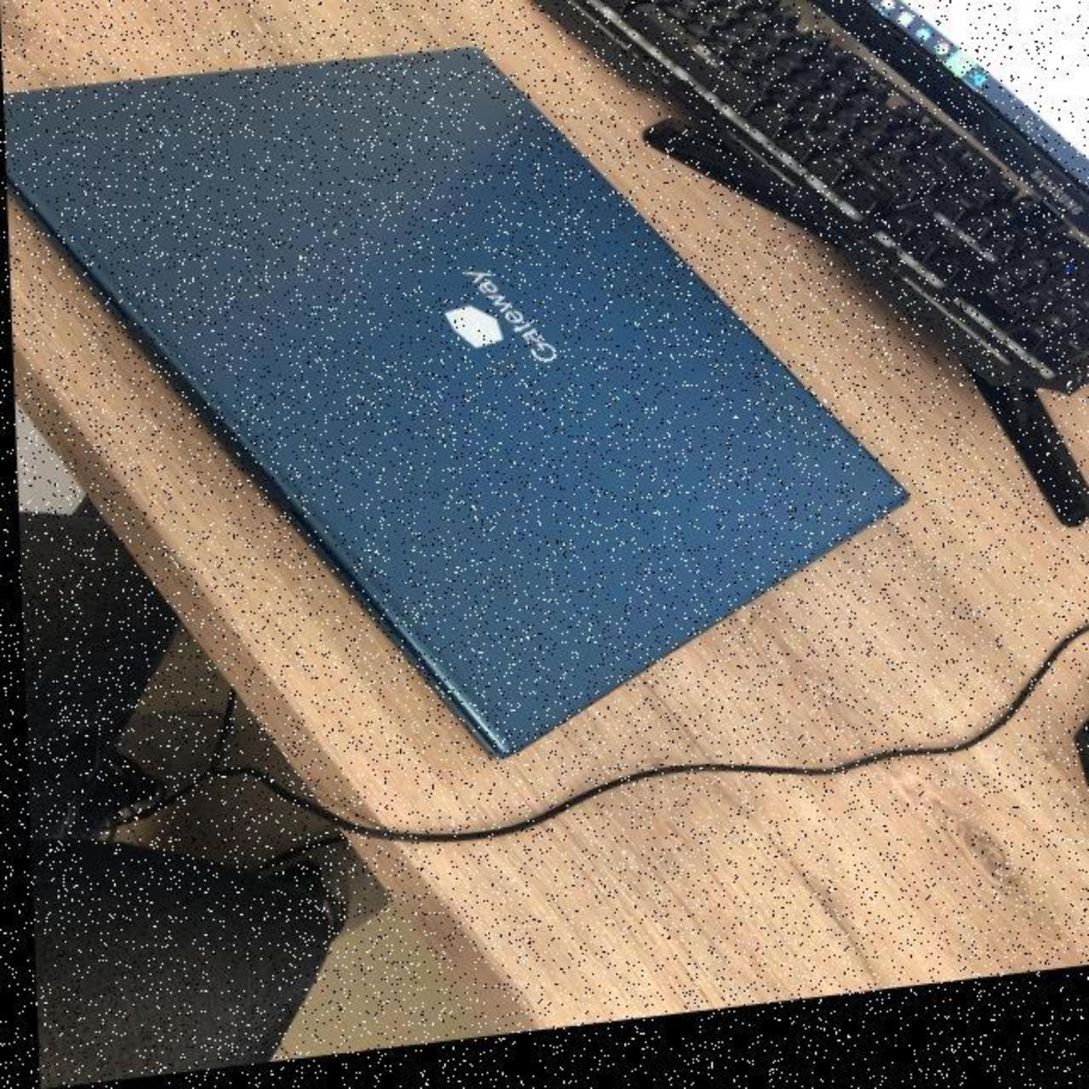laptop: (2, 11, 917, 830)
